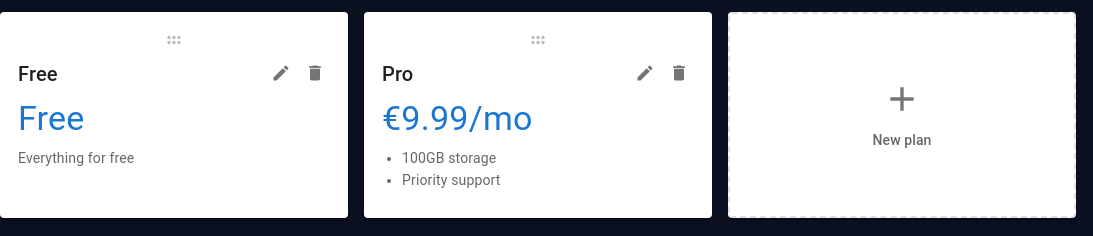
Scenario: PlanCards › hides create form when Cancel is clicked
This screenshot has width=1093, height=236.
Click the button "New plan" at (902, 115), box [730,14,1074,216]
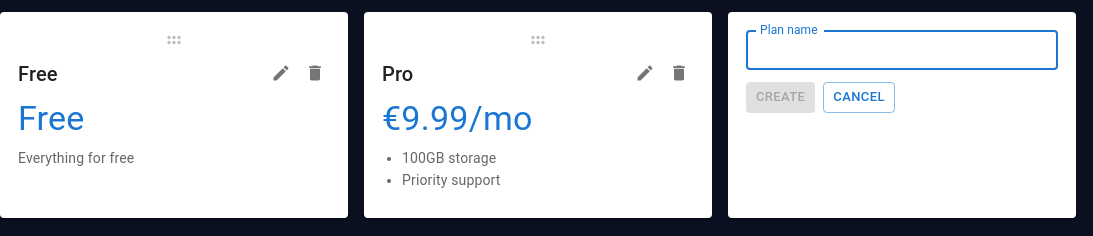
Check: the field labelled "Plan name" is shown, box [746,30,1058,70]
Click the button "Cancel" at (859, 97), box [823,82,895,113]
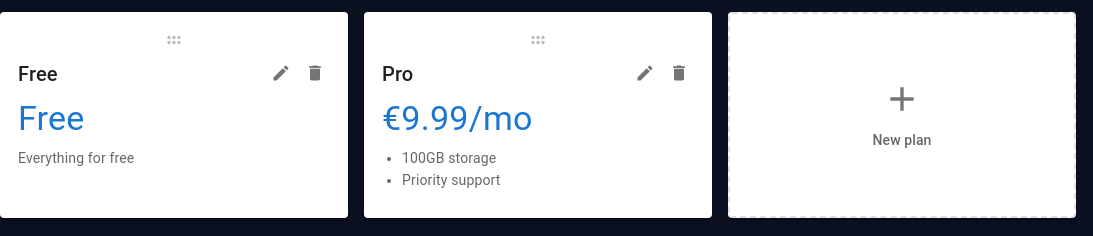
Check: the label labelled "Plan name" is gone
Check: the heading "New plan" is shown, box [872,130,932,152]
